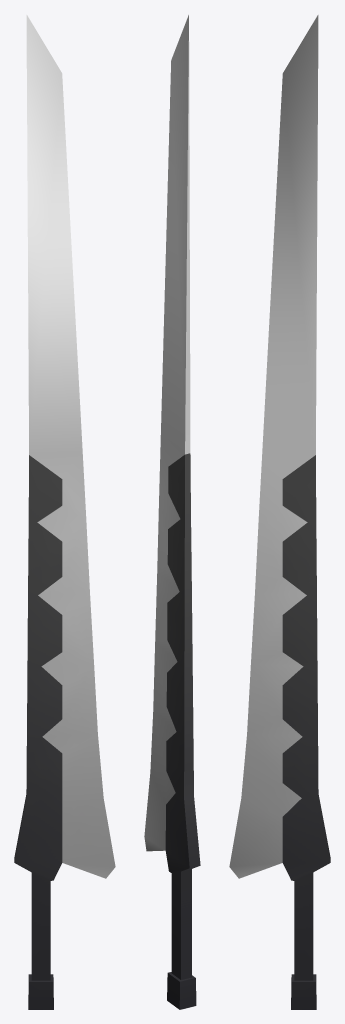
The model's file is Weapon_cyberpunk_sword.fbx.
3 views of the same model, side by side, from view 1: azimuth 90°, elevation 25°; view 2: azimuth 210°, elevation 25°; view 3: azimuth 270°, elevation 25° (orthographic).
Visible parts, largest first — view 1: W_KT_2; view 2: W_KT_2; view 3: W_KT_2.
Part boxes in pixels (<box>): W_KT_2: <box>14,15,115,1009</box>; W_KT_2: <box>144,15,200,1009</box>; W_KT_2: <box>229,15,330,1009</box>.
Bounding box in the file's own units: 1.96 × 111 × 10.31.
